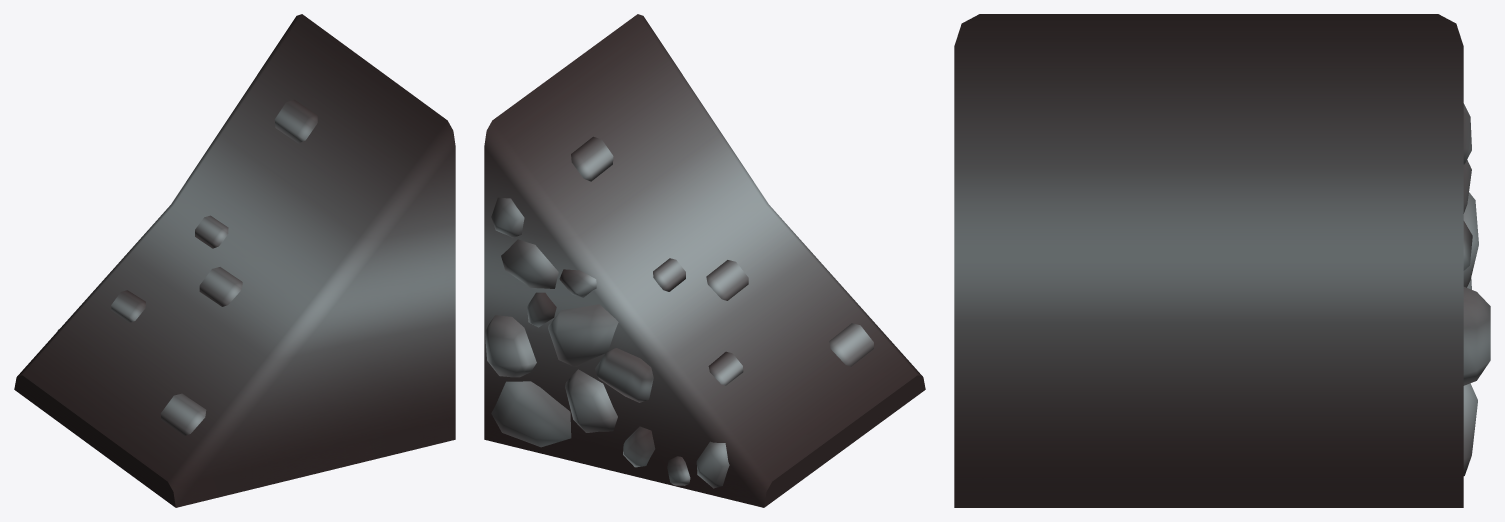
Rendered from SM_Env_slide_01.fbx.
The picture shows the model from 3 angles, left to right: view 1: azimuth 30°, elevation 25°; view 2: azimuth 150°, elevation 25°; view 3: azimuth 270°, elevation 25°; orthographic projection. The views are drawn at different scales.
Visible parts, largest first — view 1: SM_Env_Slide; view 2: SM_Env_Slide; view 3: SM_Env_Slide.
Part boxes in pixels (bbox=[...]): SM_Env_Slide: bbox=[14, 14, 455, 507]; SM_Env_Slide: bbox=[484, 14, 925, 507]; SM_Env_Slide: bbox=[954, 14, 1490, 507].
Size of what is drawn, in the model's own units: 300 by 322 by 316.
